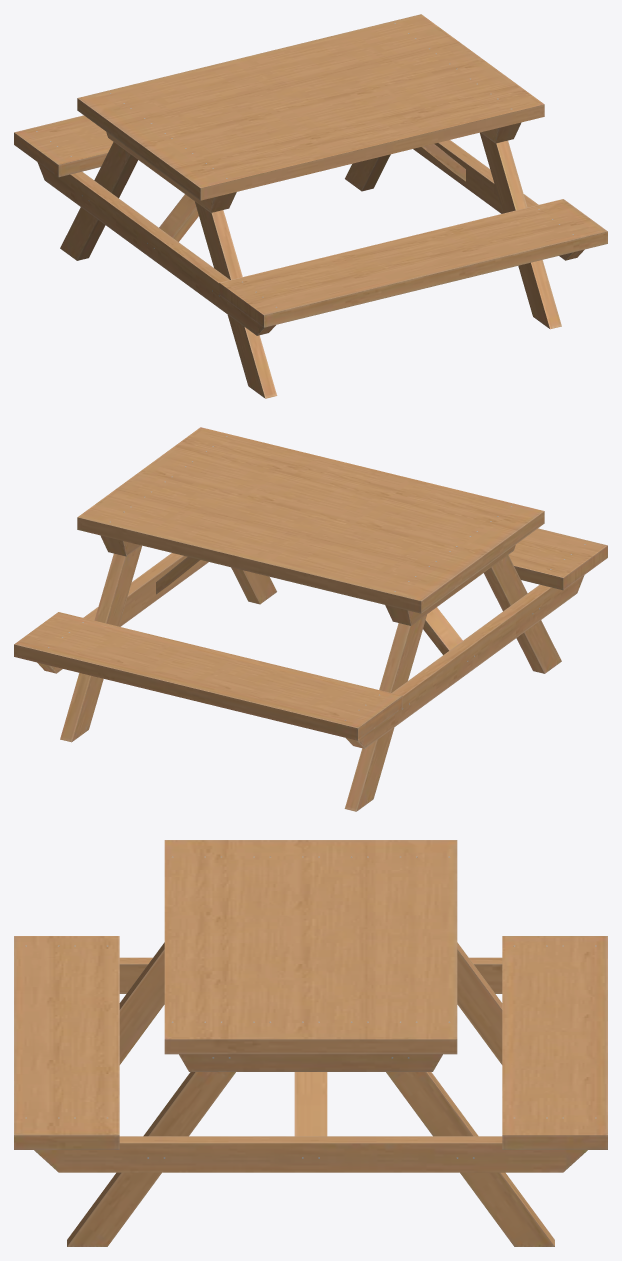
File: picnic-table.glb
3 renders of one model, top to bottom at view 1: azimuth 30°, elevation 25°; view 2: azimuth 150°, elevation 25°; view 3: azimuth 270°, elevation 25°, orthographic. The views are drawn at different scales.
Visible parts, largest first — view 1: Table_low; view 2: Table_low; view 3: Table_low.
Boxes of the visible parts, box(x1,y1,x2,y2) form: Table_low: box(14, 14, 607, 398); Table_low: box(14, 427, 607, 811); Table_low: box(14, 840, 607, 1246).
Bounding box in the file's own units: 1.47 × 0.76 × 1.85.
Materials: 2 (1 with a texture image).
